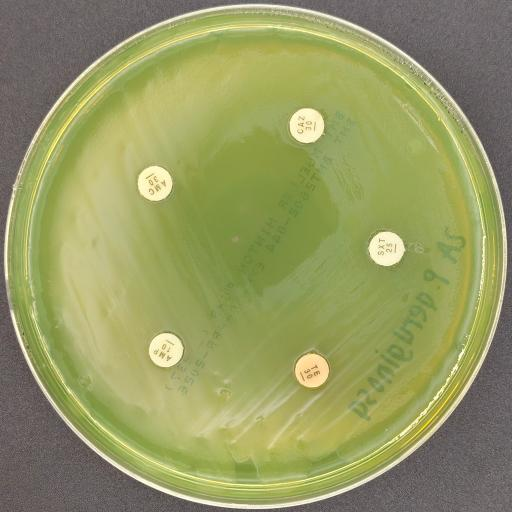disc: (368, 231, 404, 267), (137, 166, 173, 202), (290, 108, 324, 144), (295, 353, 329, 389), (148, 333, 184, 367)
